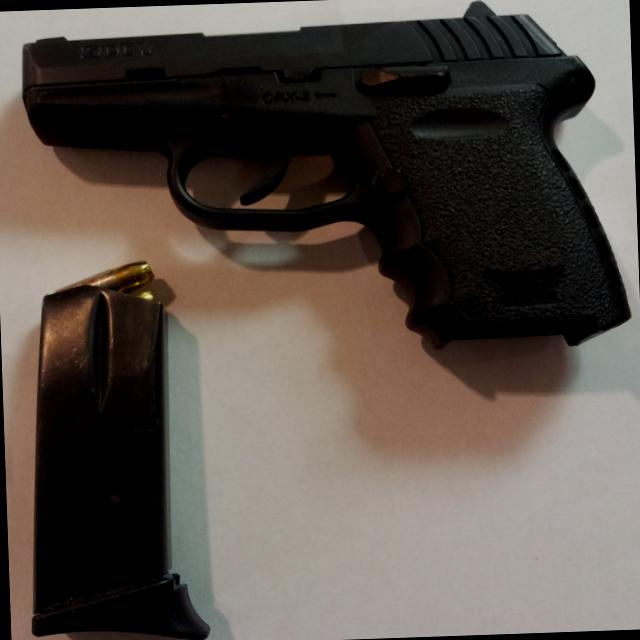handgun: (19, 0, 632, 376)
